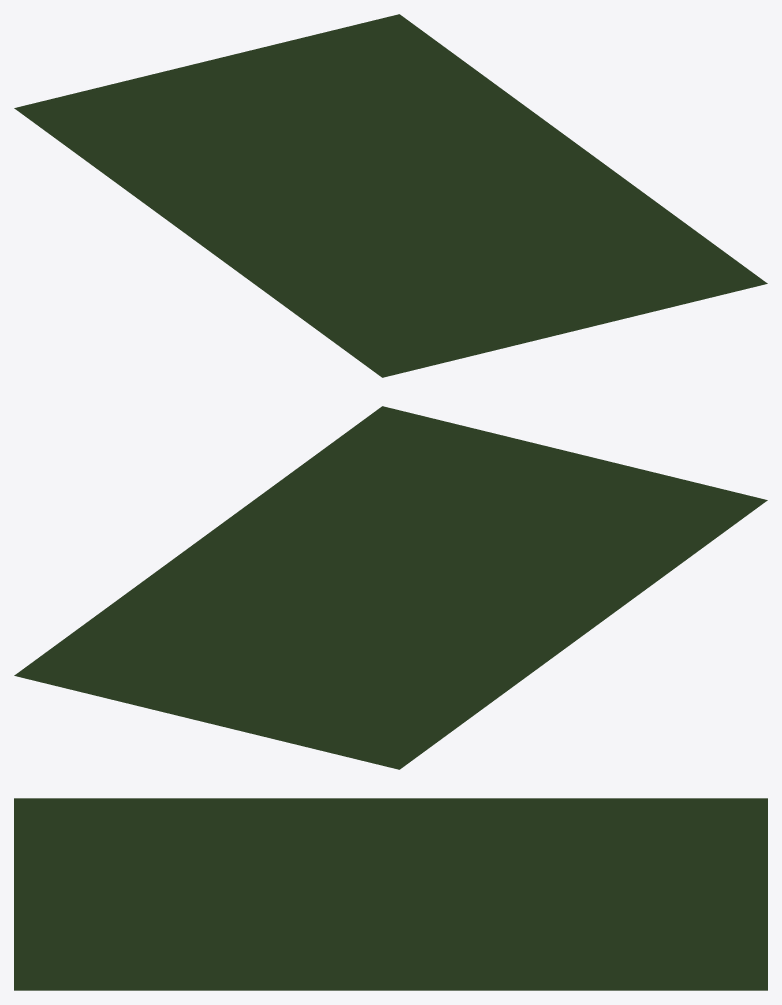
The model's file is GS_Int_Roof_Short.fbx.
3 renders of one model, top to bottom at view 1: azimuth 30°, elevation 25°; view 2: azimuth 150°, elevation 25°; view 3: azimuth 270°, elevation 25°, orthographic. The views are drawn at different scales.
Parts seen in each view (by area): view 1: GS_Int_Roof_Short; view 2: GS_Int_Roof_Short; view 3: GS_Int_Roof_Short.
Part boxes in pixels (x1,y1,x2,y2): GS_Int_Roof_Short: [14, 14, 767, 377]; GS_Int_Roof_Short: [14, 406, 767, 769]; GS_Int_Roof_Short: [14, 798, 767, 990].
Bounding box in the file's own units: 425 × 0.000115 × 704.
